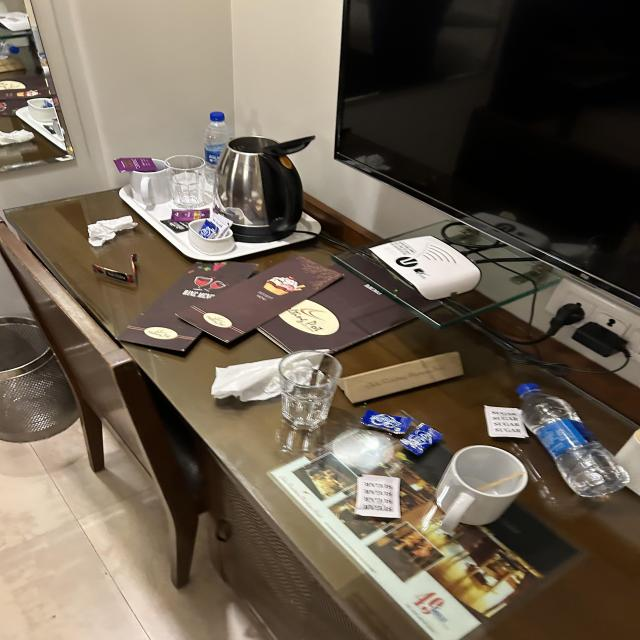mess: (0, 139, 640, 640)
